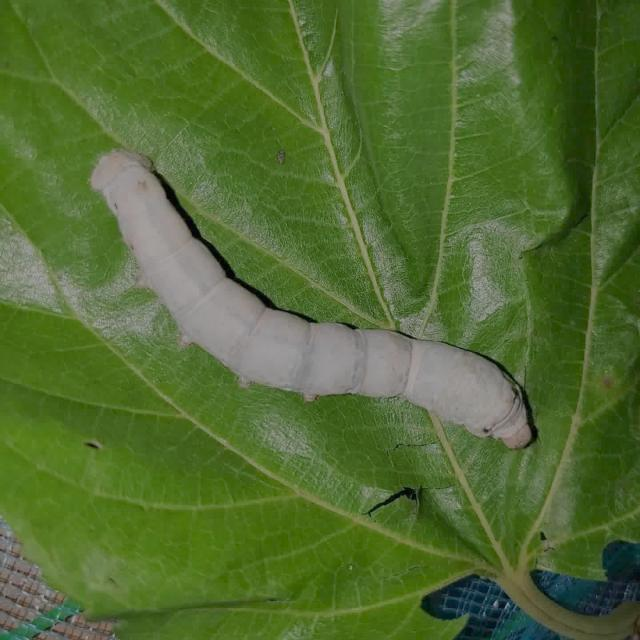Healthy: (86, 141, 542, 456)
